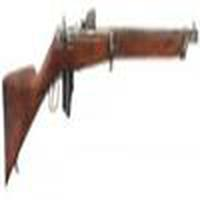gun: (1, 28, 200, 141)
